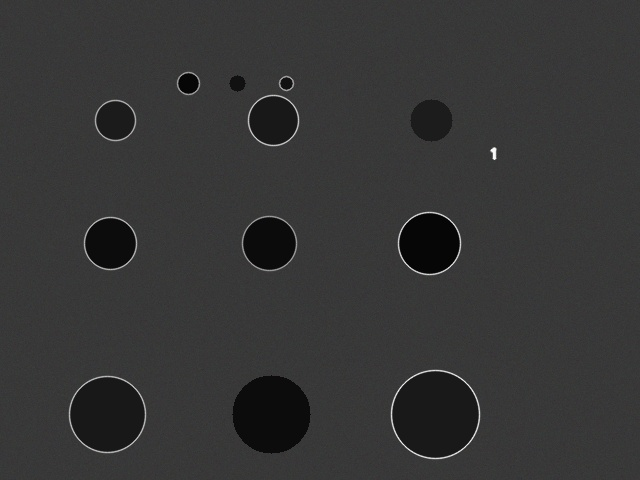hole: (391, 370, 479, 458), (232, 375, 310, 453), (69, 376, 145, 452), (398, 212, 460, 274), (242, 216, 296, 270), (84, 217, 136, 269), (248, 95, 298, 145), (410, 99, 452, 141), (95, 100, 135, 140), (177, 72, 199, 94), (229, 75, 245, 91), (279, 76, 293, 90)
